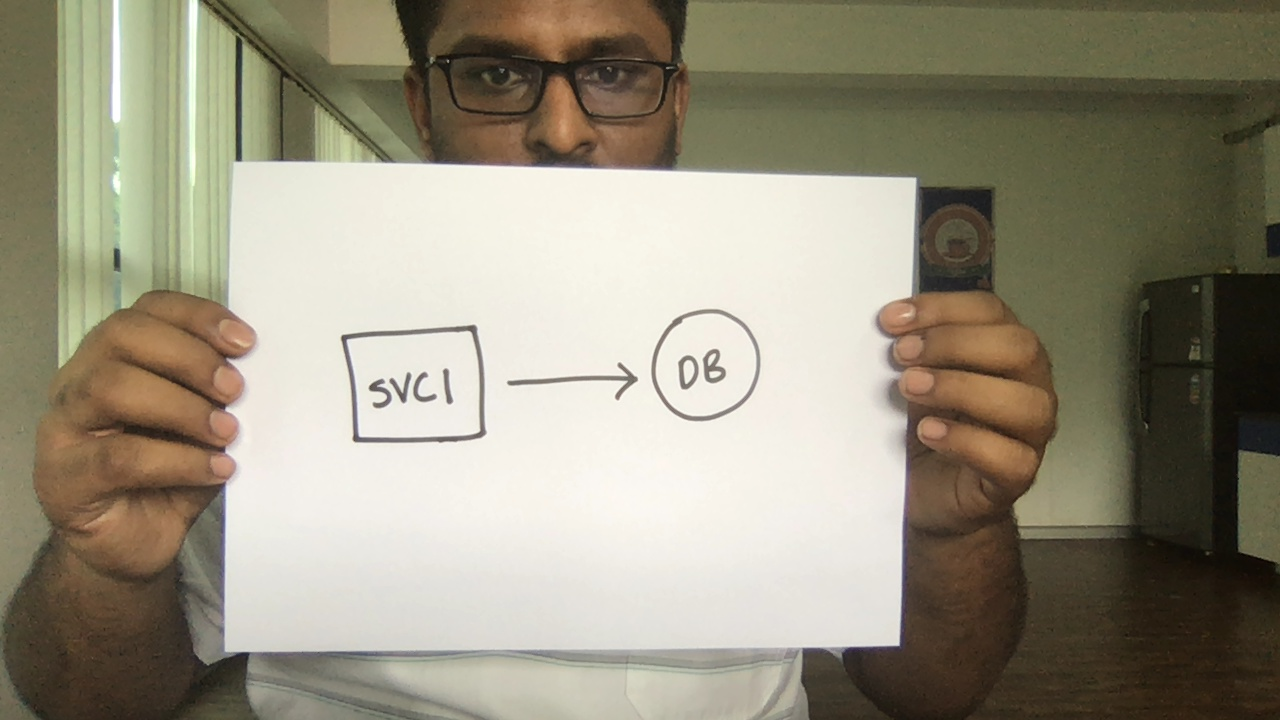arrow: (497, 352, 644, 420)
db: (641, 301, 769, 430)
ec2: (334, 319, 492, 455)
